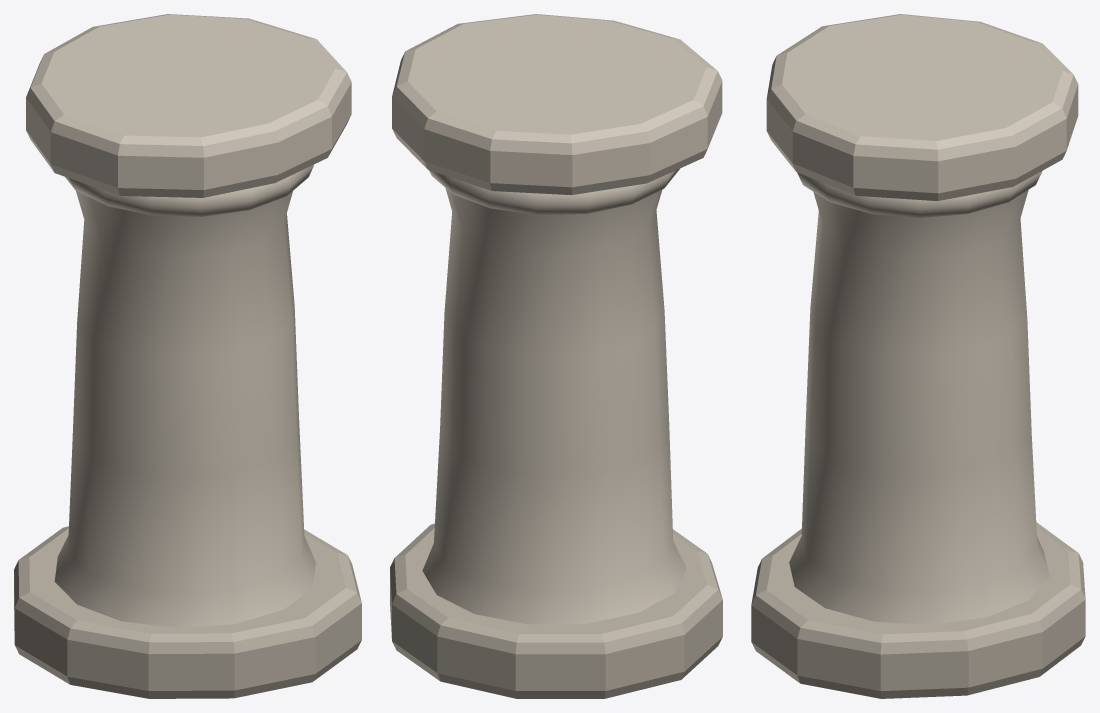
File: prop_stone_pillar.glb
The picture shows the model from 3 angles, left to right: view 1: azimuth 30°, elevation 25°; view 2: azimuth 150°, elevation 25°; view 3: azimuth 270°, elevation 25°; orthographic projection.
Parts seen in each view (by area): view 1: pillar_shaft, pillar_cap, pillar_plinth, pillar_neck; view 2: pillar_shaft, pillar_cap, pillar_plinth, pillar_neck; view 3: pillar_shaft, pillar_cap, pillar_plinth, pillar_neck.
Part boxes in pixels (box(x1,y1,x2,y2)): pillar_shaft: box(54, 191, 315, 627); pillar_cap: box(26, 14, 351, 197); pillar_plinth: box(14, 526, 361, 698); pillar_neck: box(65, 164, 313, 216); pillar_shaft: box(422, 188, 686, 624); pillar_cap: box(392, 14, 722, 195); pillar_plinth: box(390, 523, 722, 698); pillar_neck: box(429, 168, 679, 215); pillar_shaft: box(789, 190, 1049, 624); pillar_cap: box(766, 14, 1078, 201); pillar_plinth: box(751, 522, 1085, 698); pillar_neck: box(797, 171, 1042, 217).
Bounding box in the file's own units: 0.6758 × 1.21 × 0.6622.
